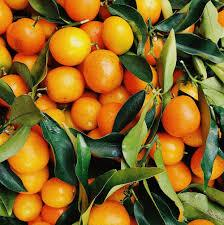orange: (14, 166, 70, 214), (153, 93, 201, 134), (1, 130, 51, 168), (44, 27, 90, 63), (43, 64, 86, 101), (82, 202, 141, 225), (97, 99, 129, 139), (82, 51, 119, 85), (62, 94, 95, 127), (3, 15, 34, 47)
